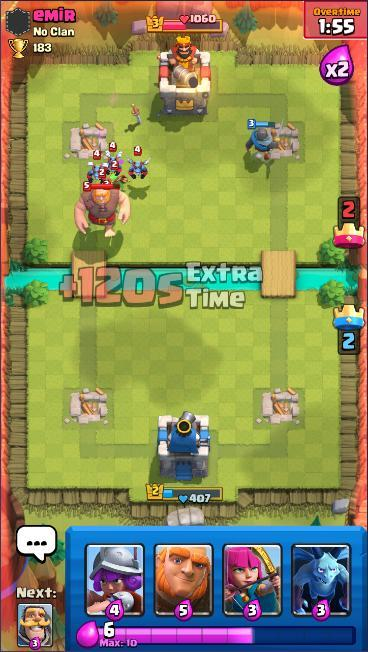ally_knight: (243, 116, 286, 163)
enemy_giant: (73, 181, 132, 238)
enemy_minion: (85, 147, 114, 189), (125, 145, 155, 184), (101, 140, 125, 177)
enemy_spear_goblin: (100, 179, 119, 210), (96, 168, 114, 200), (107, 161, 126, 191)
